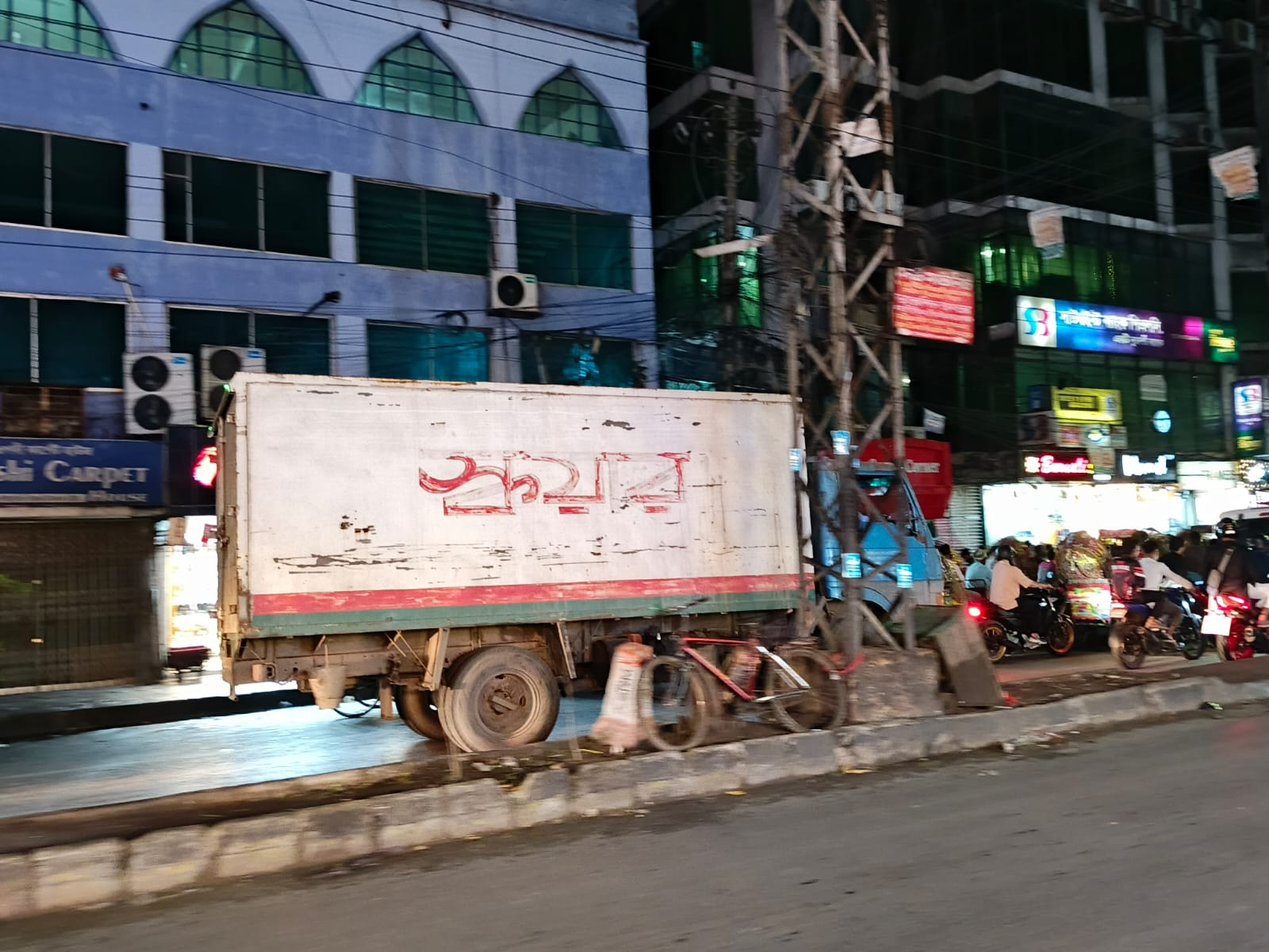Bikes: (1106, 537, 1209, 669), (963, 543, 1077, 661)
Truck: (217, 355, 957, 765)
